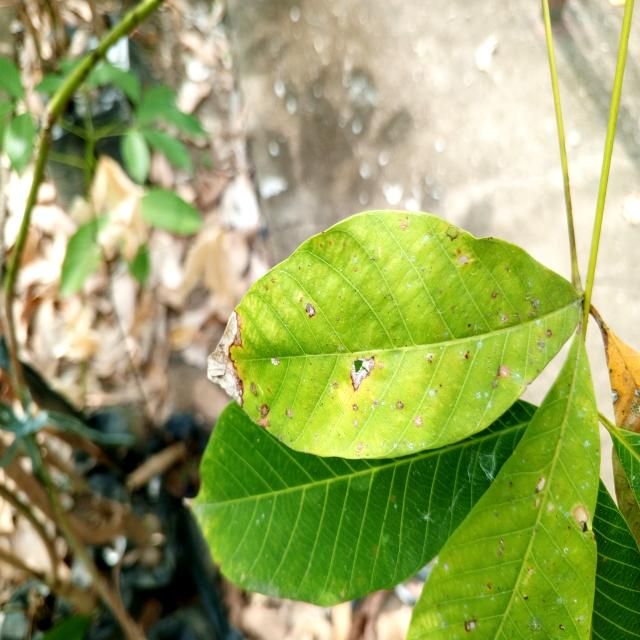Leaf-Blight: (206, 309, 244, 408), (350, 358, 374, 390)
